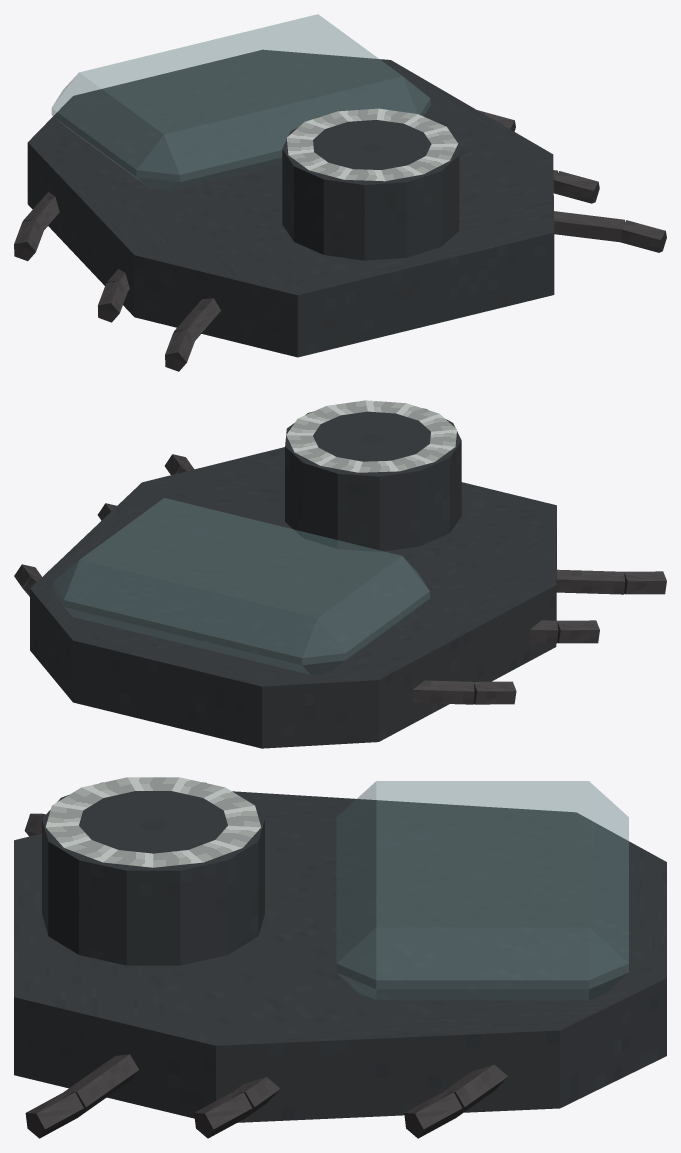
Rendered from mask_gas.glb.
3 views of the same model, one above another, from view 1: azimuth 30°, elevation 25°; view 2: azimuth 150°, elevation 25°; view 3: azimuth 270°, elevation 25° (orthographic). The views are drawn at different scales.
Parts seen in each view (by area): view 1: block_full-face gasket, block_single wide face visor, block_front filter housing, block_strap anchor 1 (×5), block_strap anchor 0 (×3); view 2: block_full-face gasket, block_single wide face visor, block_front filter housing, block_strap anchor 0 (×3), block_strap anchor 1 (×3); view 3: block_full-face gasket, block_single wide face visor, block_front filter housing, block_strap anchor 1 (×3), block_strap anchor 0 (×3), block_ribbed filter rim 0, block_ribbed filter rim 5, block_ribbed filter rim 12, block_ribbed filter rim 7, block_ribbed filter rim 11, block_ribbed filter rim 1, block_ribbed filter rim 8 (+6 smaller).
Boxes of the visible parts, x1,y1,x2,y2 form: block_full-face gasket: [27, 49, 554, 357]; block_single wide face visor: [51, 14, 430, 191]; block_front filter housing: [282, 111, 459, 260]; block_strap anchor 1 (×5): [14, 171, 666, 371]; block_strap anchor 0 (×3): [23, 192, 624, 340]; block_full-face gasket: [30, 447, 556, 748]; block_single wide face visor: [52, 498, 429, 674]; block_front filter housing: [285, 408, 461, 551]; block_strap anchor 0 (×3): [413, 569, 625, 704]; block_strap anchor 1 (×3): [473, 571, 666, 704]; block_full-face gasket: [14, 791, 666, 1122]; block_single wide face visor: [336, 781, 628, 1000]; block_front filter housing: [42, 782, 264, 965]; block_strap anchor 1 (×3): [25, 1092, 462, 1138]; block_strap anchor 0 (×3): [63, 1054, 508, 1116]; block_ribbed filter rim 0: [103, 850, 153, 867]; block_ribbed filter rim 5: [81, 777, 135, 797]; block_ribbed filter rim 12: [153, 850, 203, 867]; block_ribbed filter rim 7: [171, 777, 224, 797]; block_ribbed filter rim 11: [189, 840, 242, 862]; block_ribbed filter rim 1: [64, 840, 117, 862]; block_ribbed filter rim 8: [203, 787, 254, 810].
Size of the model in its own units: 0.27 by 0.0718 by 0.2421.
Materials: 2 (2 with a texture image).
